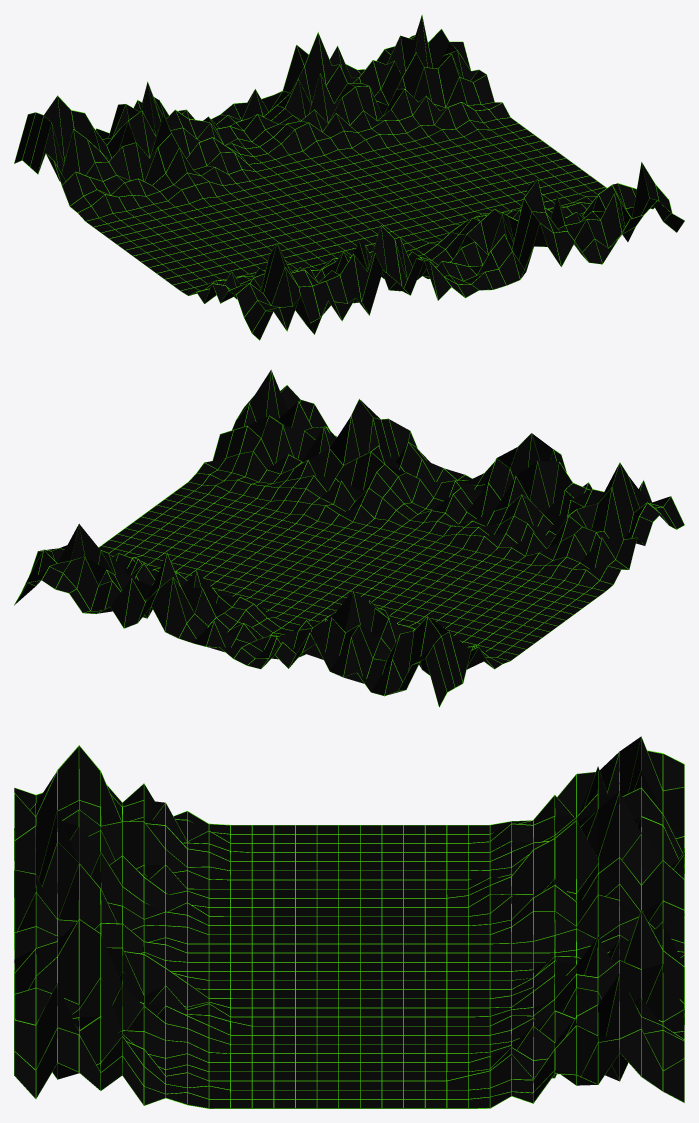
Rendered from Vaporware.glb.
The picture shows the model from 3 angles, top to bottom: view 1: azimuth 30°, elevation 25°; view 2: azimuth 150°, elevation 25°; view 3: azimuth 270°, elevation 25°; orthographic projection. The views are drawn at different scales.
Parts seen in each view (by area): view 1: Mesh_1, Mesh_0; view 2: Mesh_1, Mesh_0; view 3: Mesh_1, Mesh_0.
Boxes of the visible parts, x1,y1,x2,y2 form: Mesh_1: (14,16,684,339); Mesh_0: (14,14,684,340); Mesh_1: (15,370,684,706); Mesh_0: (14,370,684,707); Mesh_1: (14,736,684,1108); Mesh_0: (14,736,684,1108).
Bounding box in the file's own units: 1602 × 285 × 1602.
